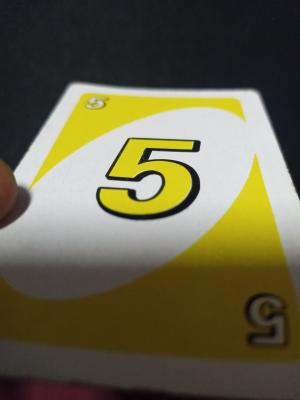num_5: (90, 134, 232, 254), (159, 274, 290, 363), (81, 91, 118, 137)
